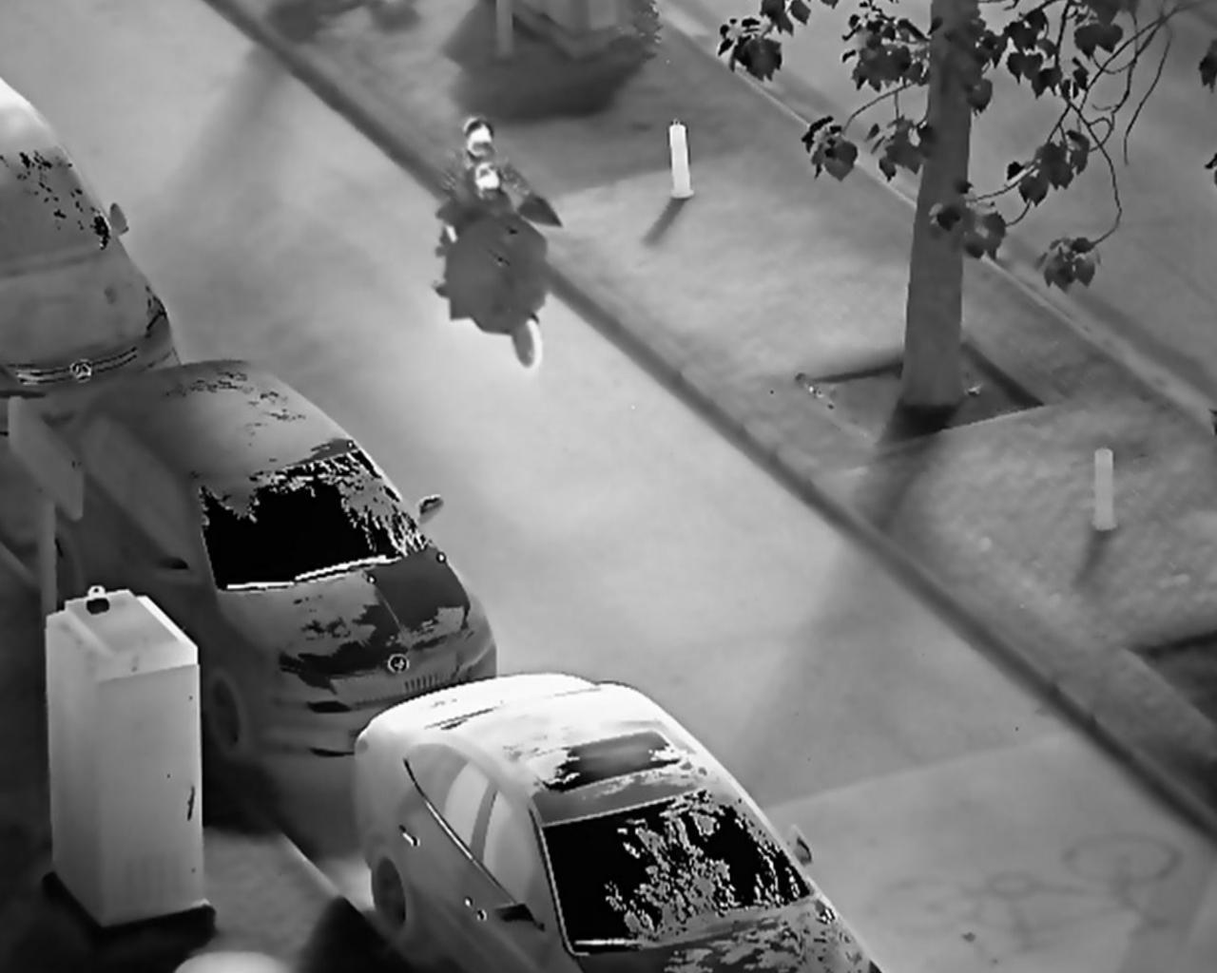person: (435, 111, 537, 252)
